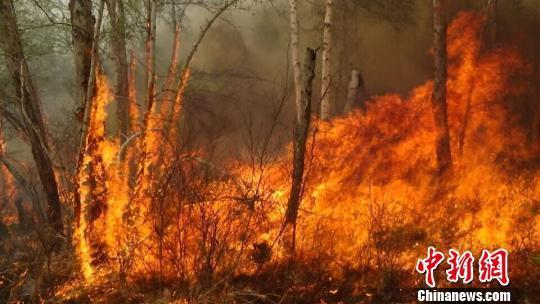fire: (204, 27, 538, 291), (68, 66, 192, 294), (0, 127, 33, 228)
